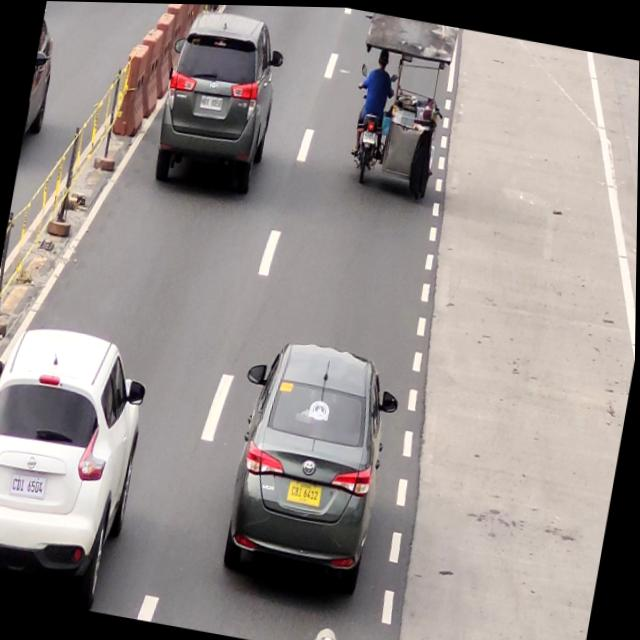Car: (0, 311, 159, 615), (220, 333, 401, 600), (152, 4, 286, 198)
License-Plate: (287, 477, 326, 510), (10, 471, 50, 499), (199, 91, 225, 112), (361, 125, 377, 144)
Tricycle: (338, 10, 459, 207)
